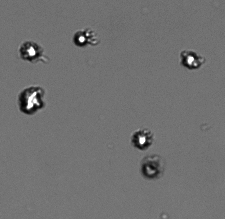Dead Cell: (140, 158, 161, 178)
Living Cell: (20, 88, 42, 113), (19, 42, 41, 59), (133, 130, 149, 149), (73, 30, 89, 46), (183, 51, 199, 67)
